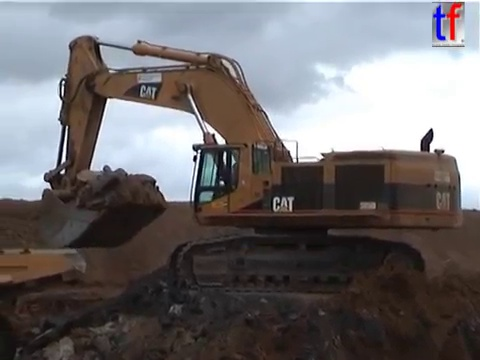excavator: (36, 31, 467, 299)
truck: (1, 243, 88, 360)
